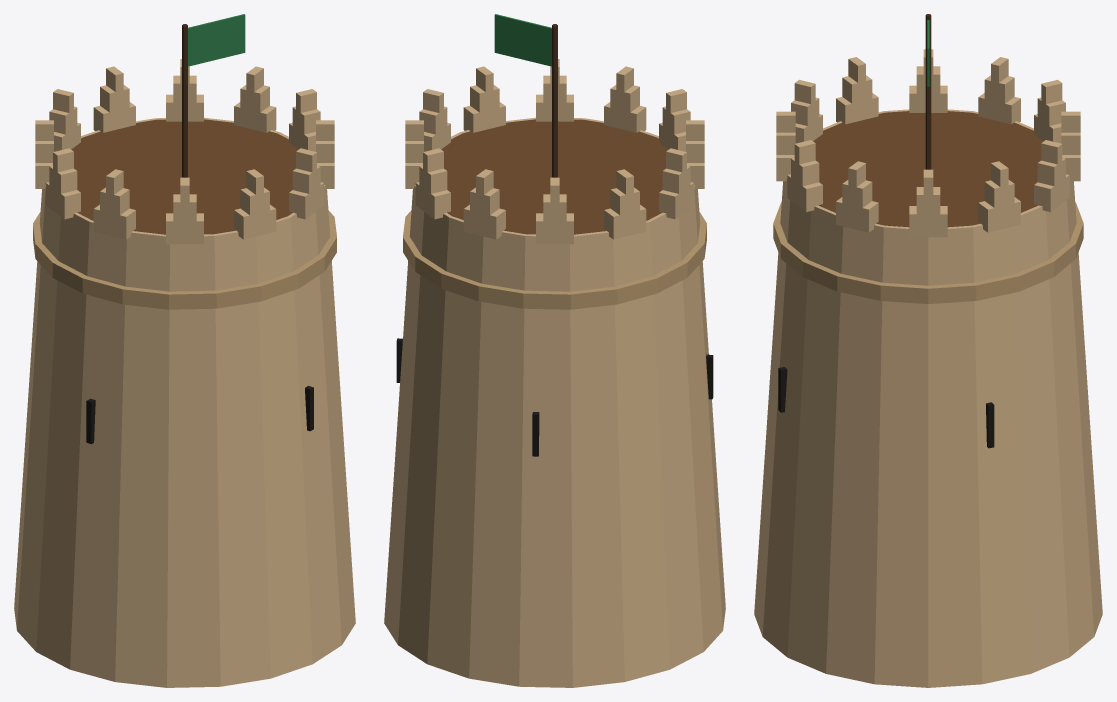
Rendered from tower.glb.
The picture shows the model from 3 angles, left to right: view 1: azimuth 30°, elevation 25°; view 2: azimuth 150°, elevation 25°; view 3: azimuth 270°, elevation 25°; orthographic projection.
Visible parts, largest first — view 1: Tower; view 2: Tower; view 3: Tower.
Boxes of the visible parts, x1=… form: Tower: x1=14, y1=14, x2=355, y2=687; Tower: x1=384, y1=14, x2=725, y2=687; Tower: x1=754, y1=14, x2=1102, y2=687.
Bounding box in the file's own units: 8.2 × 15.55 × 8.2.
